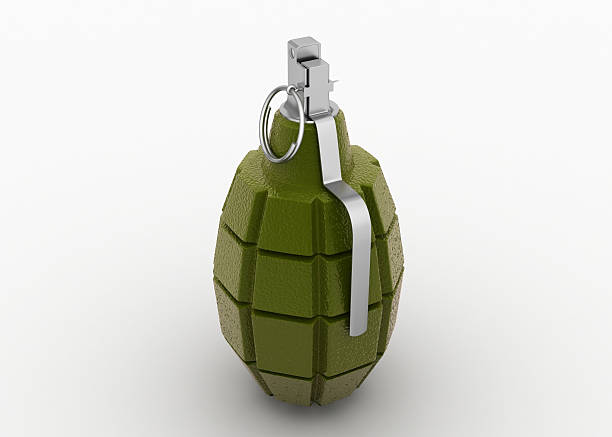e1: (212, 37, 405, 409)
